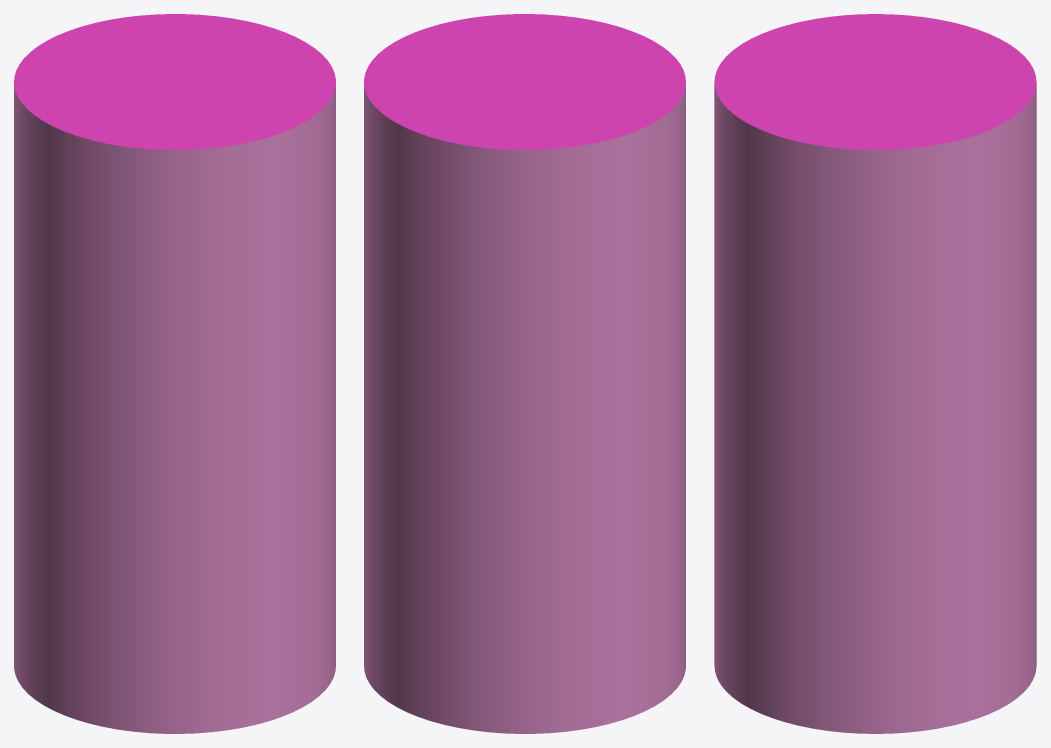
File: NodeCylinder.fbx
3 views of the same model, side by side, from view 1: azimuth 30°, elevation 25°; view 2: azimuth 150°, elevation 25°; view 3: azimuth 270°, elevation 25° (orthographic).
Parts seen in each view (by area): view 1: Cylinder, Top; view 2: Cylinder, Top; view 3: Cylinder, Top.
Boxes of the visible parts, box(x1,y1,x2,y2) form: Cylinder: box(14, 84, 335, 733); Top: box(14, 14, 335, 149); Cylinder: box(364, 84, 685, 733); Top: box(364, 14, 685, 149); Cylinder: box(714, 83, 1036, 733); Top: box(714, 14, 1036, 149).
Size of the model in its own units: 100 by 200 by 100.
